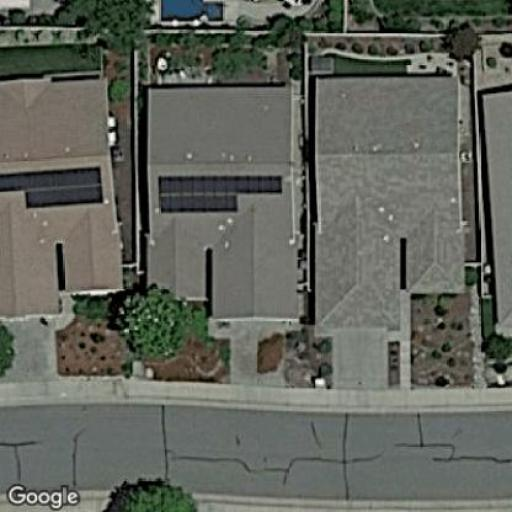solar-panel: (156, 172, 286, 216), (0, 162, 107, 210)
